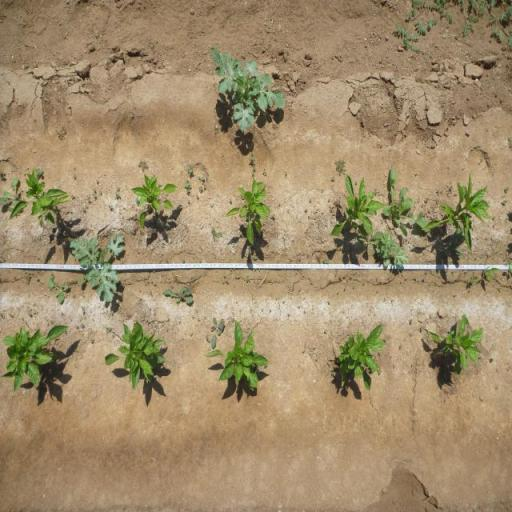plant: (426, 171, 493, 253), (202, 319, 271, 397), (0, 323, 70, 395), (103, 319, 168, 393), (427, 312, 486, 382), (11, 168, 72, 230), (129, 172, 181, 237), (328, 174, 382, 236), (336, 324, 383, 390), (231, 176, 271, 246)
weed: (208, 45, 291, 133), (393, 0, 512, 56), (70, 234, 127, 302), (384, 162, 426, 234), (378, 229, 408, 272), (0, 175, 20, 214), (162, 283, 194, 304), (444, 228, 466, 258), (48, 276, 70, 305), (469, 268, 500, 286), (210, 316, 225, 347), (358, 232, 381, 250), (334, 157, 348, 175), (24, 270, 40, 285), (210, 224, 222, 242), (136, 158, 148, 174), (184, 178, 192, 194), (505, 256, 512, 273), (221, 274, 231, 284), (115, 186, 122, 200), (186, 166, 194, 176), (36, 167, 44, 176), (0, 170, 8, 179), (248, 152, 255, 162), (92, 187, 97, 200), (204, 334, 210, 344), (262, 167, 269, 175), (252, 162, 256, 176), (398, 344, 404, 352), (322, 258, 330, 264), (108, 204, 114, 212), (134, 196, 140, 204), (106, 326, 112, 334), (246, 273, 250, 284), (177, 203, 183, 210), (420, 324, 424, 334), (82, 303, 86, 313), (496, 286, 502, 292), (502, 199, 508, 205), (504, 186, 510, 192), (252, 256, 258, 262), (198, 176, 204, 182), (50, 272, 56, 278), (488, 358, 494, 363), (199, 185, 203, 192), (270, 214, 276, 218), (80, 322, 84, 328), (90, 338, 94, 344), (204, 183, 207, 190), (331, 176, 335, 181), (410, 318, 413, 324), (332, 369, 335, 375), (324, 328, 327, 334), (182, 258, 185, 264), (305, 208, 308, 211)
